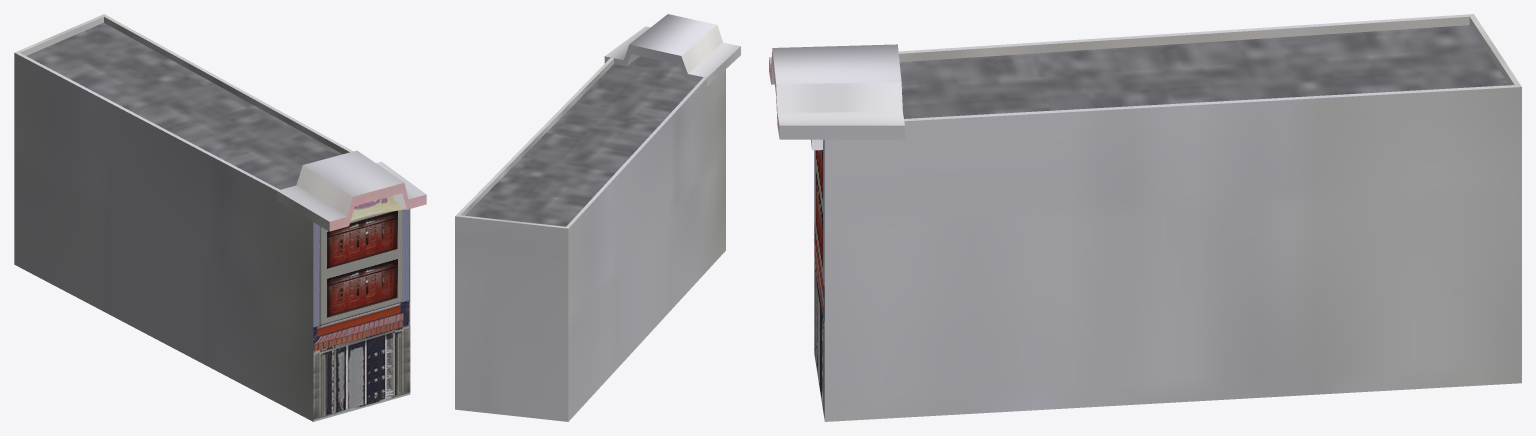
The picture shows the model from 3 angles, left to right: view 1: azimuth 30°, elevation 25°; view 2: azimuth 150°, elevation 25°; view 3: azimuth 270°, elevation 25°; orthographic projection. The views are drawn at different scales.
Visible parts, largest first — view 1: 5daffd185bb8830f98dcff2b.001; view 2: 5daffd185bb8830f98dcff2b.001; view 3: 5daffd185bb8830f98dcff2b.001.
Boxes of the visible parts, x1,y1,x2,y2 form: 5daffd185bb8830f98dcff2b.001: [14, 14, 426, 421]; 5daffd185bb8830f98dcff2b.001: [455, 14, 740, 421]; 5daffd185bb8830f98dcff2b.001: [769, 14, 1521, 421].
Size of the model in its own units: 9.3 by 12.49 by 26.48.
1 material, 1 textured.
